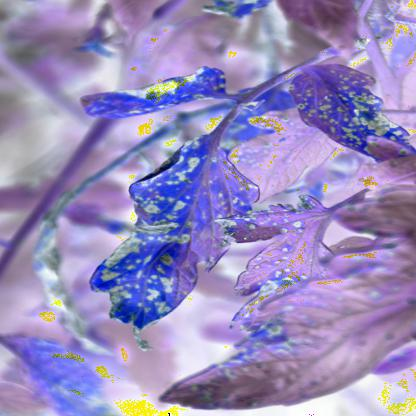Tomato Early blight leaf: (94, 131, 240, 326), (282, 62, 415, 160), (77, 69, 235, 117)
